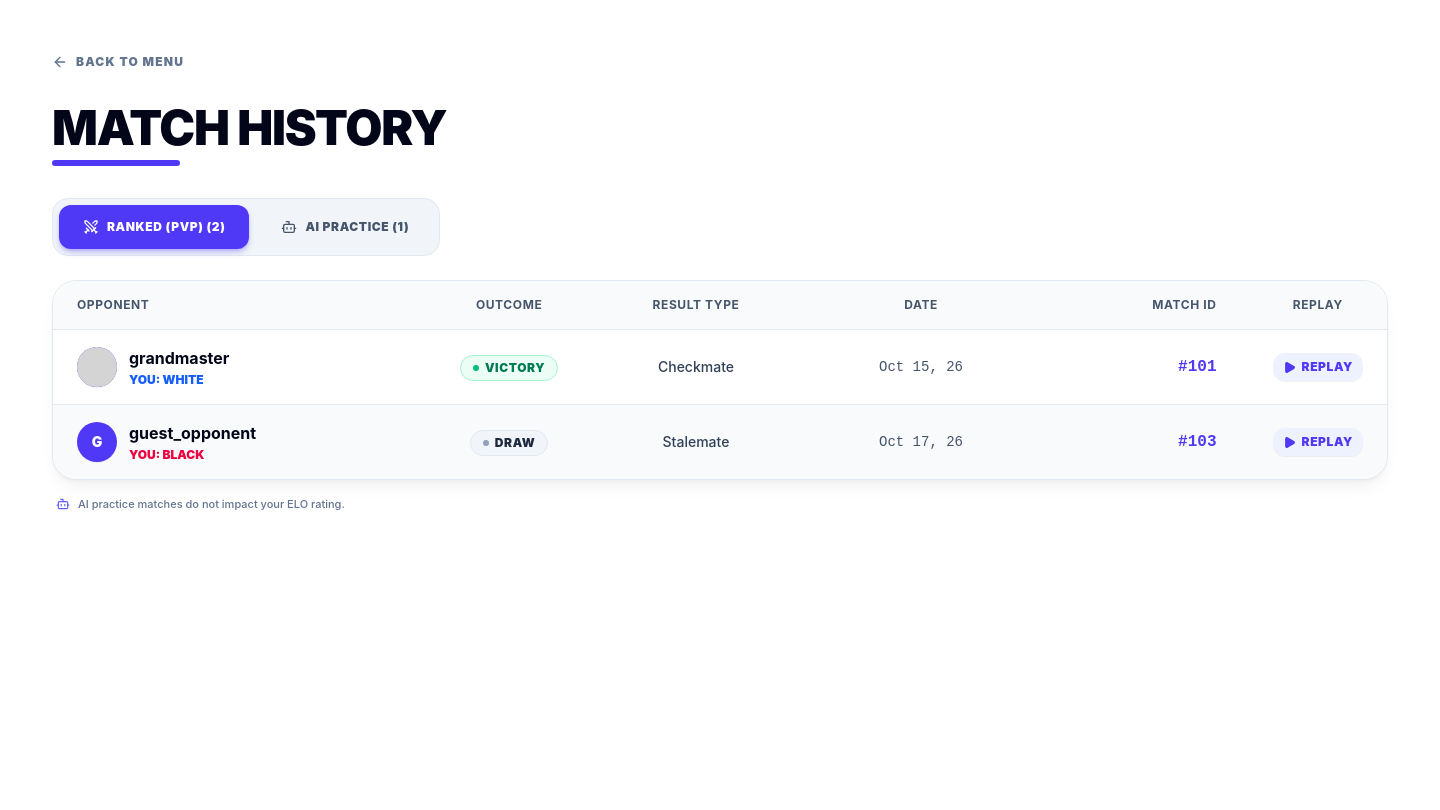
Test case: AllMatchHistory Tabbed Component › opens replay modal when clicking replay button on a match row
Expected: the text "grandmaster" is shown, [129,346,229,370]
Click the button "Replay" in the row of "grandmaster". click: [1318, 367]
box: [1272,353,1363,381]
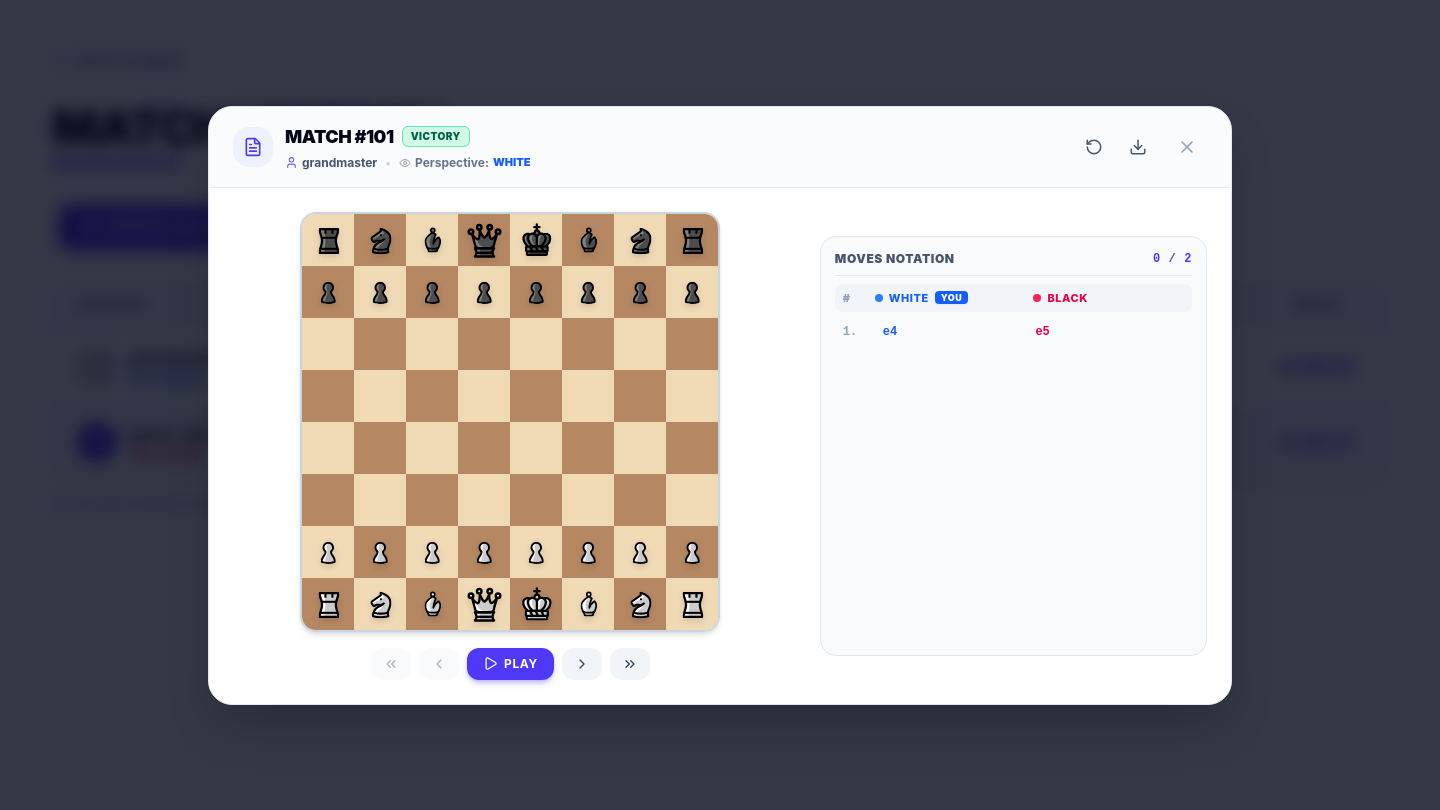
Now the heading "Match #101" is shown, box [285,122,394,150]
